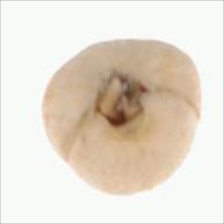L3: (90, 69, 152, 125)
L4: (41, 39, 203, 196)
